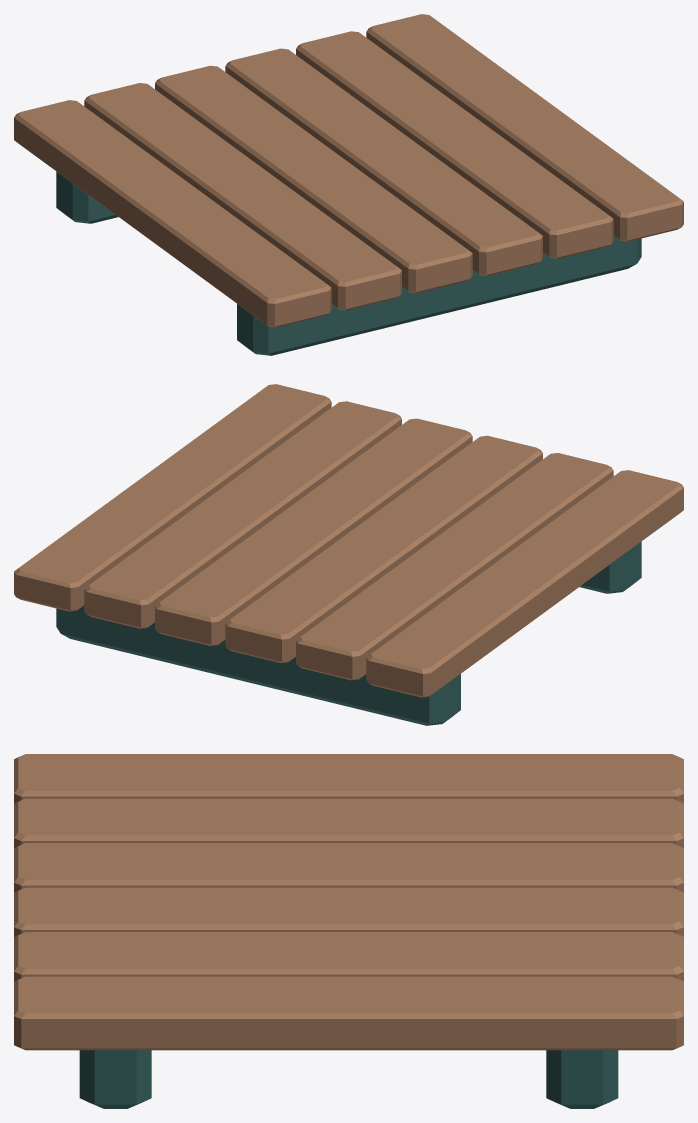
The model's file is Pallet.glb.
3 renders of one model, top to bottom at view 1: azimuth 30°, elevation 25°; view 2: azimuth 150°, elevation 25°; view 3: azimuth 270°, elevation 25°, orthographic. The views are drawn at different scales.
Visible parts, largest first — view 1: Pallet; view 2: Pallet; view 3: Pallet.
Part boxes in pixels (x1,y1,x2,y2): Pallet: (14,14,683,355); Pallet: (14,384,683,725); Pallet: (14,754,683,1108).
Size of the model in its own units: 1.04 by 0.196 by 1.12.
